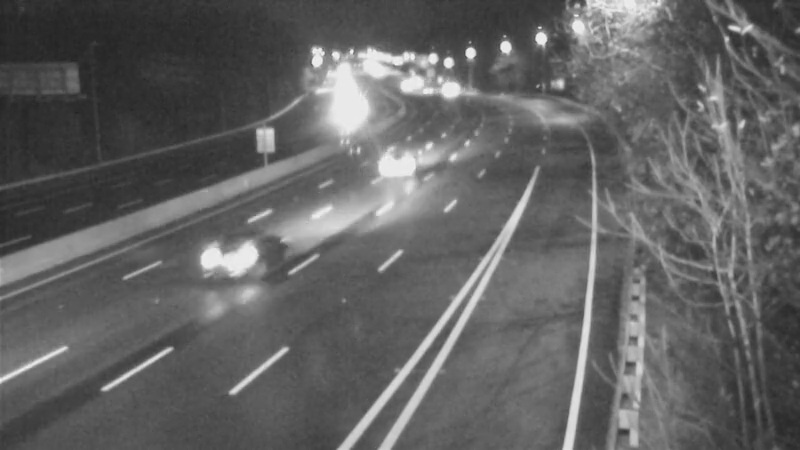vehicle: (357, 133, 437, 213), (183, 216, 263, 296), (400, 68, 450, 118), (418, 66, 468, 116)
